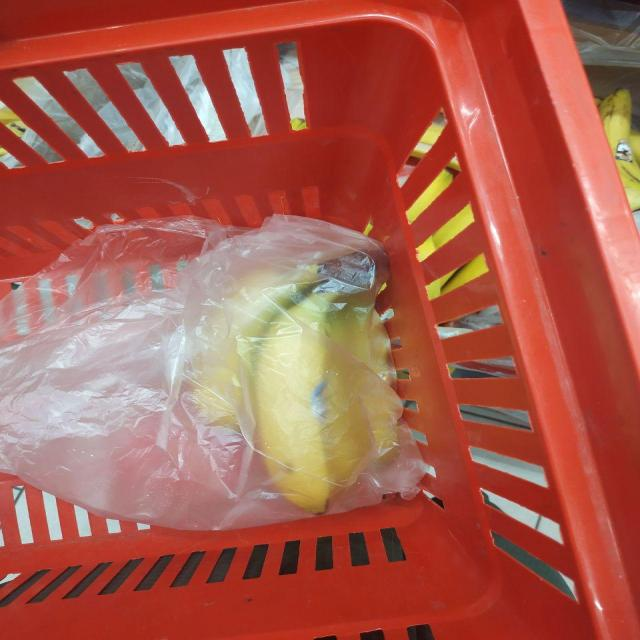Banana: (185, 266, 317, 430), (248, 292, 337, 513), (322, 310, 370, 485), (368, 310, 402, 453)
